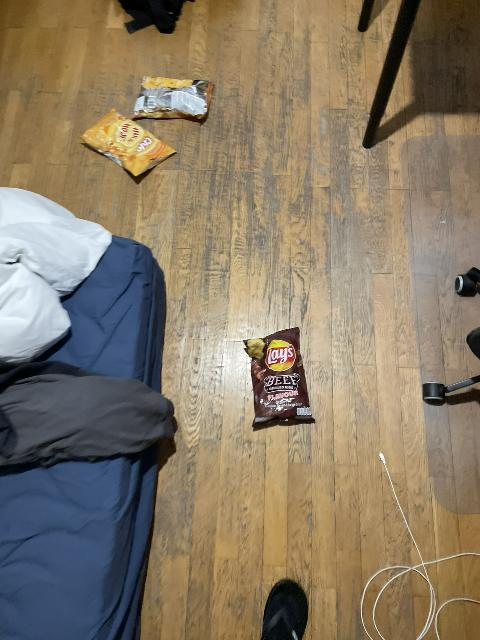Chio Cascaval 125g: (133, 77, 214, 122)
Chio Hula Hoops Cheese 70g: (80, 109, 180, 178)
Lays Beef Grilled Ribs 125g: (245, 327, 317, 426)
